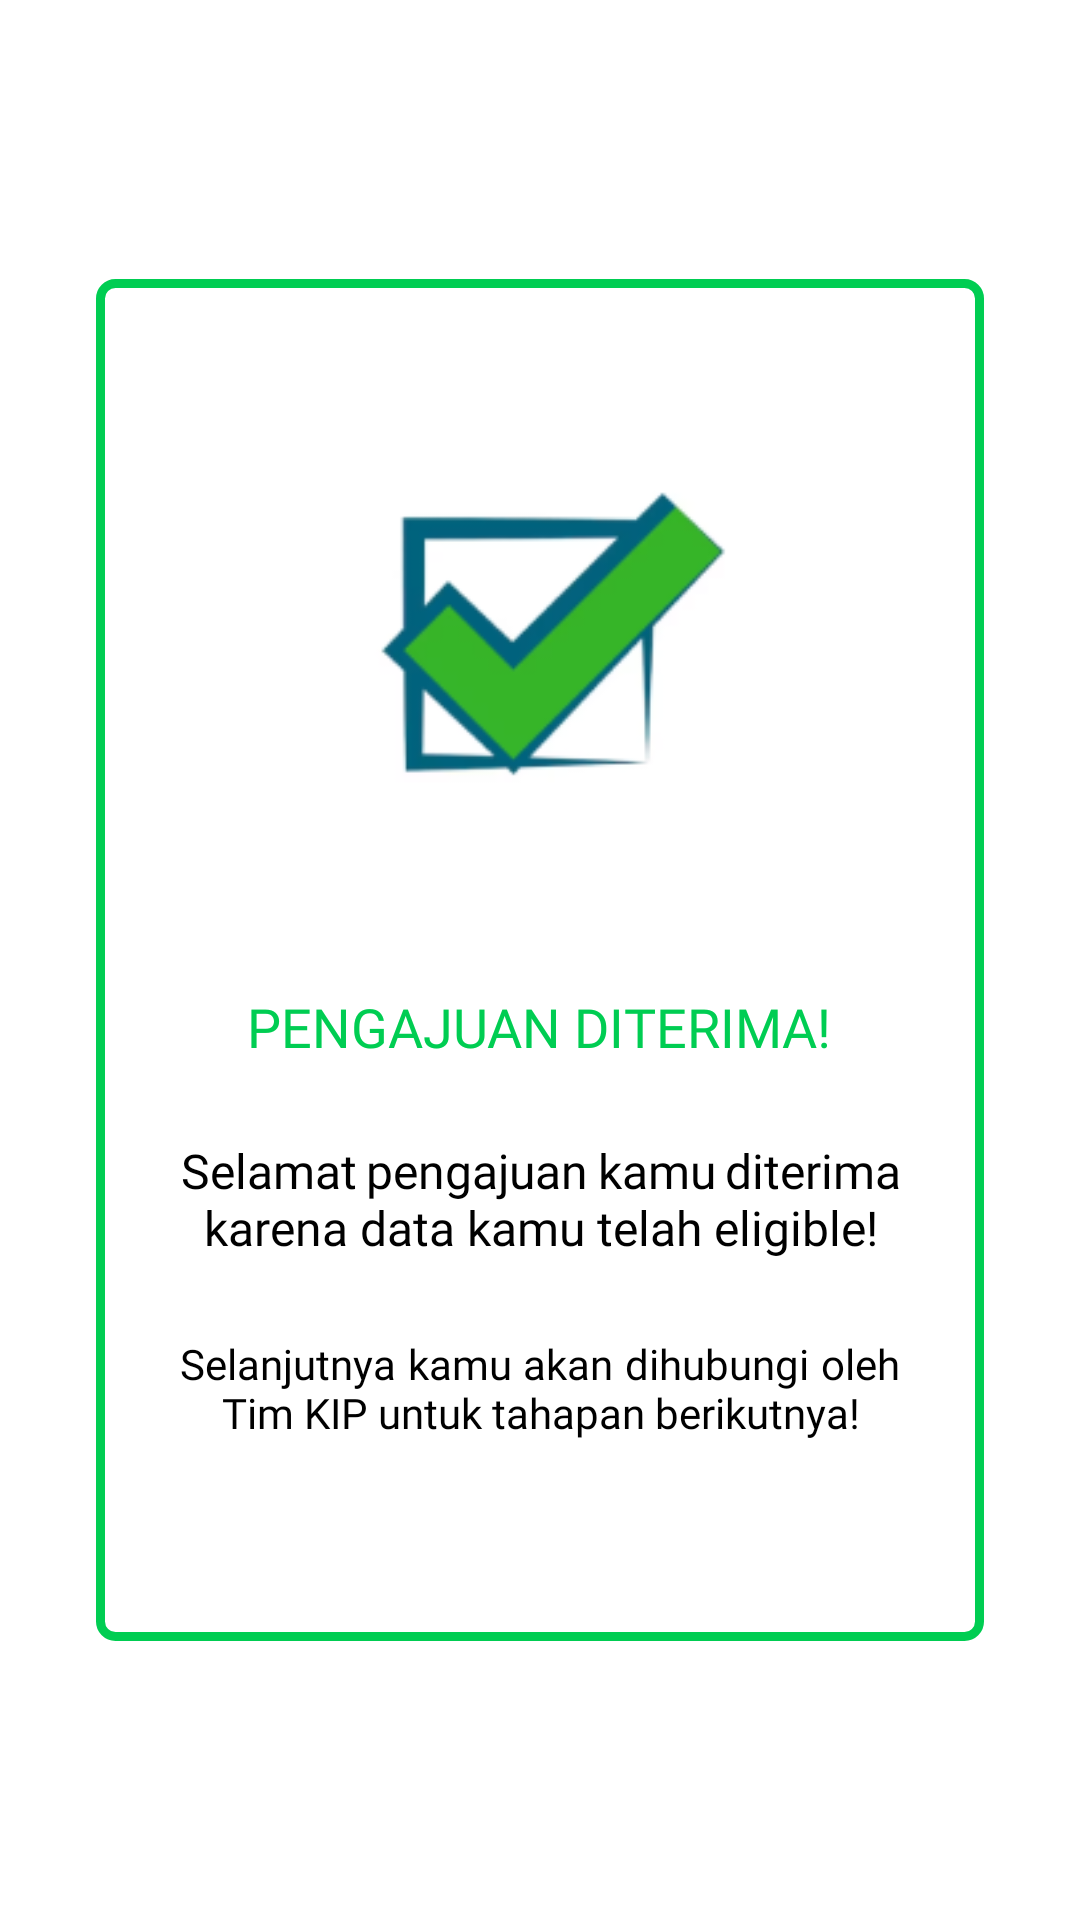

Named icons in this screenshot (1080 x 1920) and their centers, (x=x, y=y):
acc: (x=553, y=634)
